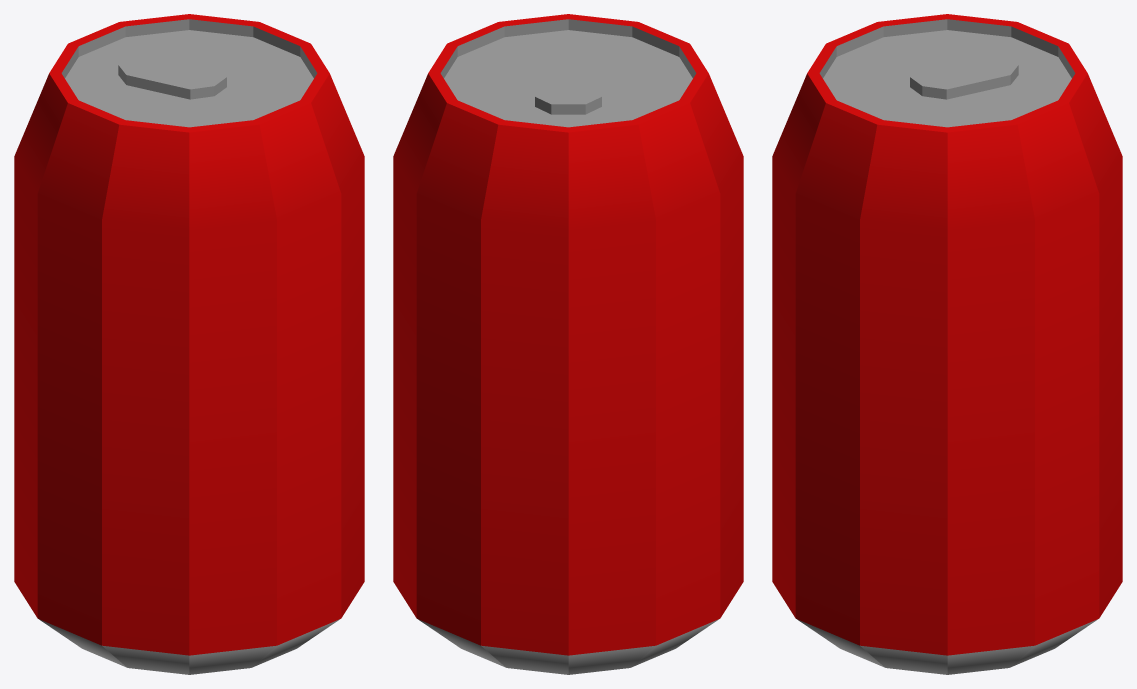
File: Coke_can.fbx
3 renders of one model, left to right at view 1: azimuth 30°, elevation 25°; view 2: azimuth 150°, elevation 25°; view 3: azimuth 270°, elevation 25°, orthographic.
Parts seen in each view (by area): view 1: Coke_can; view 2: Coke_can; view 3: Coke_can.
Part boxes in pixels (x1,y1,x2,y2): Coke_can: (14,14,364,674); Coke_can: (393,14,743,674); Coke_can: (772,14,1122,674).
Bounding box in the file's own units: 4.09 × 7.07 × 4.09.
